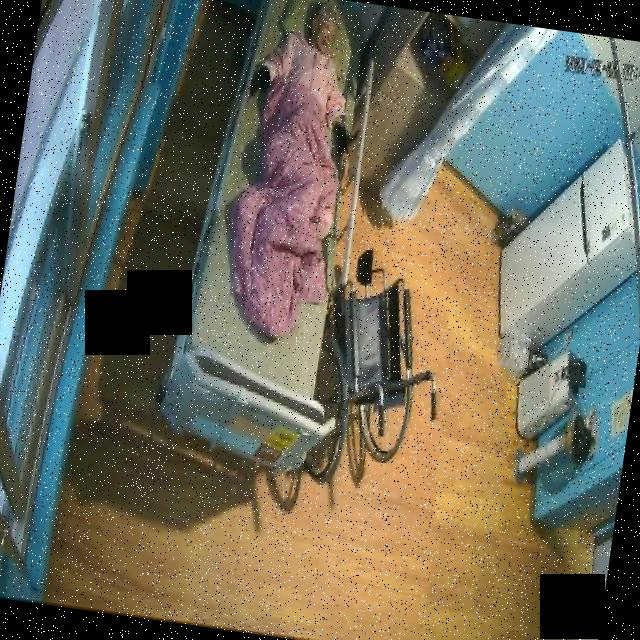bed: (158, 0, 380, 469)
lie: (213, 0, 369, 349)
patient: (242, 0, 374, 154)
